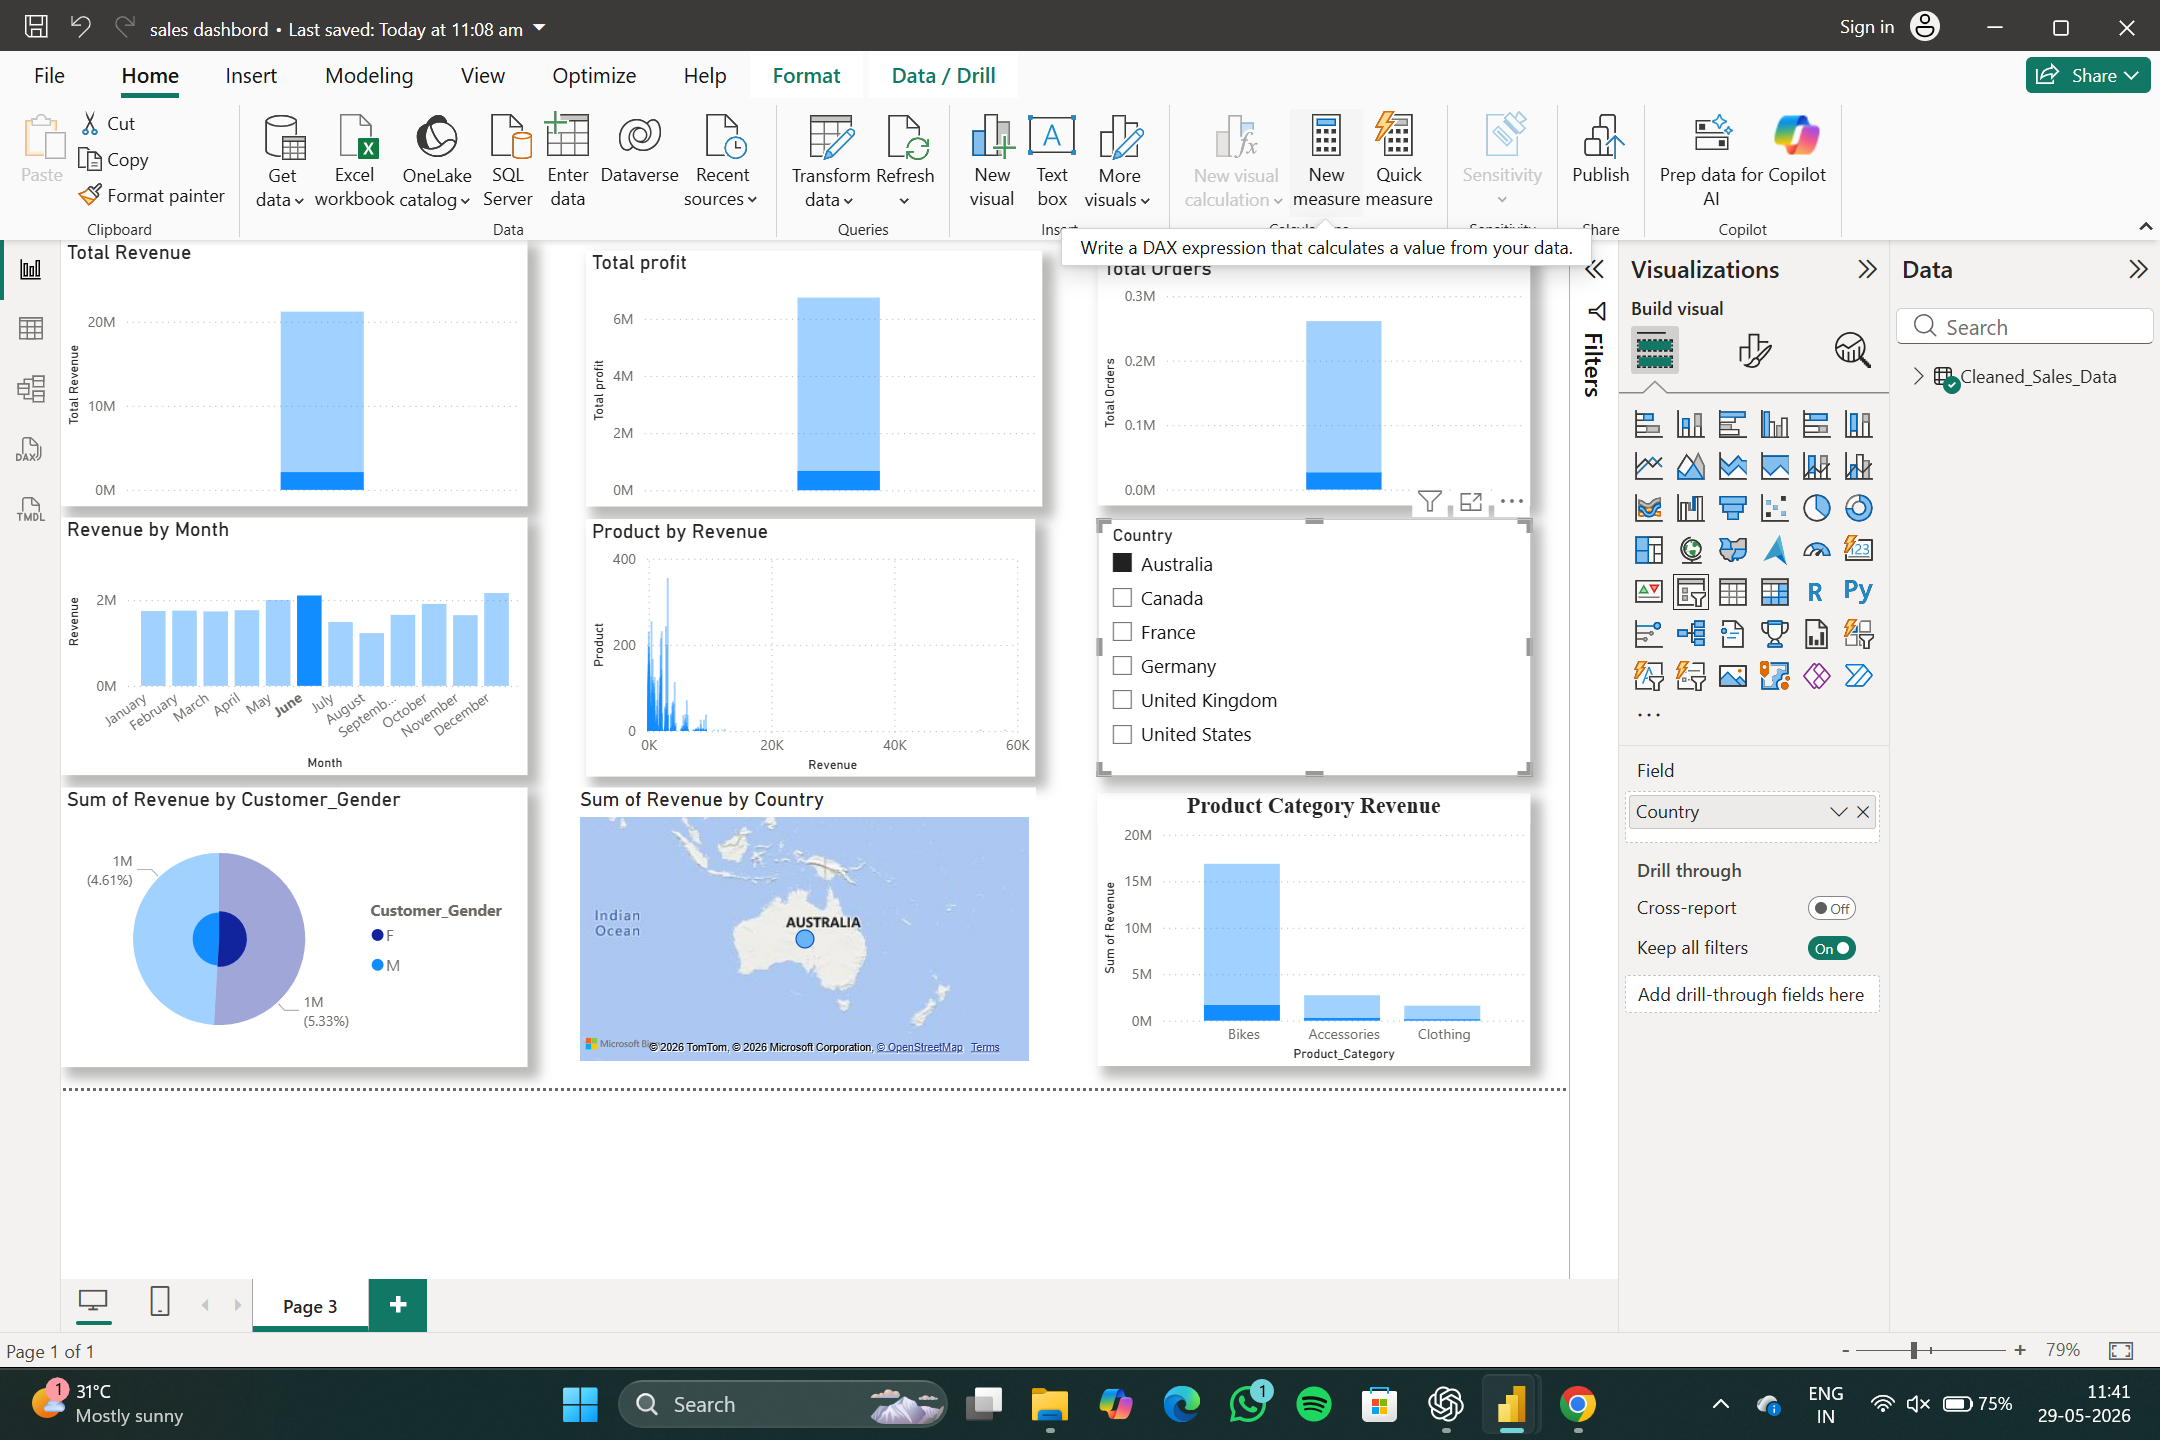

Layout of this report page (visuals, bound fields, positions):
{"tool":"powerbi","page":{"name":"Page 3","canvas":[1280,720],"ordinal":0},"visuals":[{"type":"clusteredColumnChart","fields":{"Y":["Sum(Cleaned_Sales_Data.Revenue)"]},"box":[0,0,395.7,225.7],"z":0},{"type":"clusteredColumnChart","fields":{"Y":["Sum(Cleaned_Sales_Data.Profit)"]},"box":[445.7,8.6,387.1,217.1],"z":1},{"type":"clusteredColumnChart","fields":{"Y":["Sum(Cleaned_Sales_Data.Order_Quantity)"]},"box":[880,14.3,367.1,211.4],"z":2},{"type":"lineStackedColumnComboChart","fields":{"Category":["Cleaned_Sales_Data.Date.Variation.Date Hierarchy.Month"],"Y":["Sum(Cleaned_Sales_Data.Revenue)"]},"box":[0,235.7,395.7,218.6],"z":3},{"type":"clusteredColumnChart","fields":{"Category":["Cleaned_Sales_Data.Revenue"],"Y":["CountNonNull(Cleaned_Sales_Data.Product)"]},"box":[445.7,237.1,381.4,218.6],"z":4},{"type":"pieChart","fields":{"Category":["Cleaned_Sales_Data.Customer_Gender"],"Y":["Sum(Cleaned_Sales_Data.Revenue)"]},"box":[0,464.3,395.7,237.1],"z":5},{"type":"map","fields":{"Category":["Cleaned_Sales_Data.Country"],"Size":["Sum(Cleaned_Sales_Data.Revenue)"]},"box":[435.7,464.3,391.4,237.1],"z":6},{"type":"clusteredColumnChart","title":"Product Category Revenue","fields":{"Category":["Cleaned_Sales_Data.Product_Category"],"Y":["Sum(Cleaned_Sales_Data.Revenue)"]},"box":[880,470,367.1,231.4],"z":7},{"type":"slicer","fields":{"Values":["Cleaned_Sales_Data.Country"]},"box":[880,237.1,367.1,217.1],"z":8}]}

Visuals, with their boxes on the page's 1280x720 design canvas (x1, y1, x2, y2). These are canvas units, not pixel positions in the 2160x1440 screenshot, which may show the page scaled, cropped or inside an application window:
clusteredColumnChart - Sum(Cleaned_Sales_Data.Revenue): box=[0, 0, 396, 226]
clusteredColumnChart - Sum(Cleaned_Sales_Data.Profit): box=[446, 9, 833, 226]
clusteredColumnChart - Sum(Cleaned_Sales_Data.Order_Quantity): box=[880, 14, 1247, 226]
lineStackedColumnComboChart - Cleaned_Sales_Data.Date.Variation.Date Hierarchy.Month x Sum(Cleaned_Sales_Data.Revenue): box=[0, 236, 396, 454]
clusteredColumnChart - Cleaned_Sales_Data.Revenue x CountNonNull(Cleaned_Sales_Data.Product): box=[446, 237, 827, 456]
pieChart - Cleaned_Sales_Data.Customer_Gender x Sum(Cleaned_Sales_Data.Revenue): box=[0, 464, 396, 701]
map - Cleaned_Sales_Data.Country x Sum(Cleaned_Sales_Data.Revenue): box=[436, 464, 827, 701]
"Product Category Revenue" clusteredColumnChart: box=[880, 470, 1247, 701]
slicer - Cleaned_Sales_Data.Country: box=[880, 237, 1247, 454]
